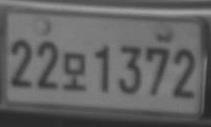1: (92, 45, 113, 93)
2: (36, 40, 59, 89), (173, 48, 195, 98), (10, 39, 31, 88)
3: (117, 46, 142, 94)
7: (146, 47, 169, 97)
모: (62, 51, 86, 91)
